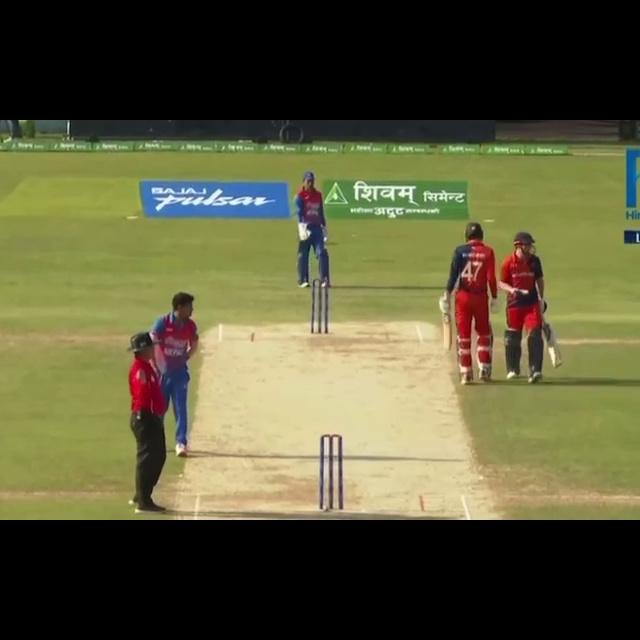umpire: (112, 328, 192, 513)
